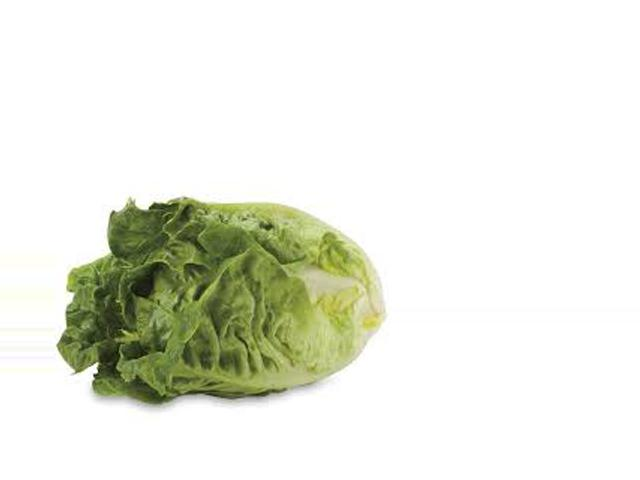lettuce: (65, 178, 384, 416)
